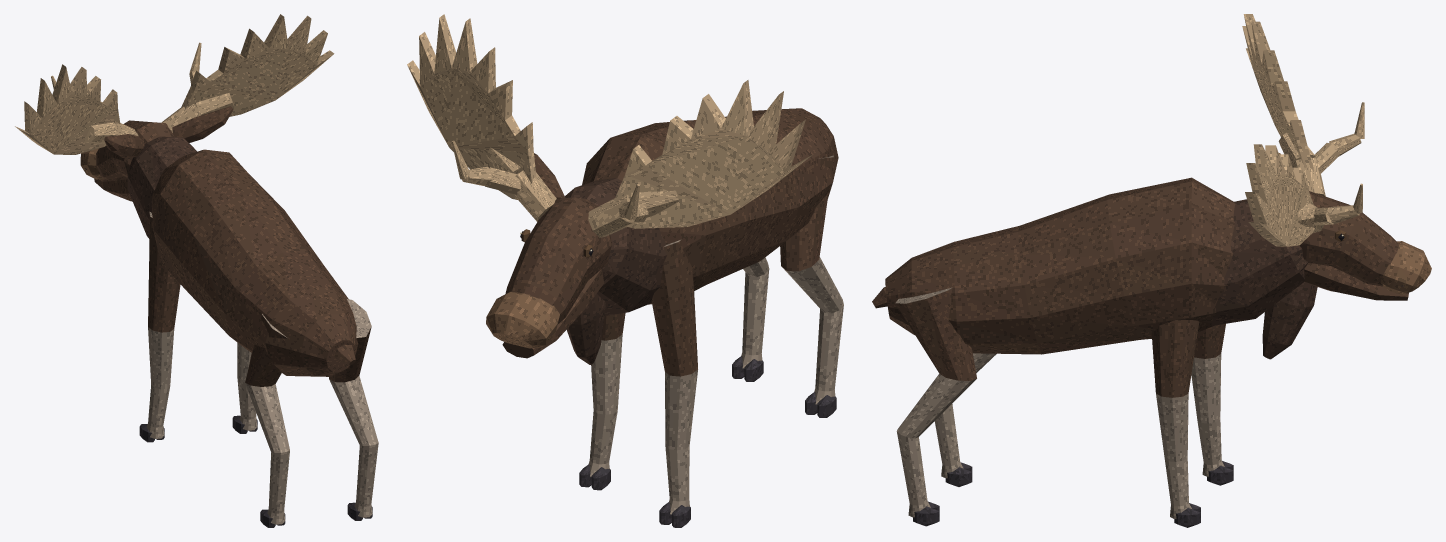
Rendered from mon_moose.glb.
The picture shows the model from 3 angles, left to right: view 1: azimuth 30°, elevation 25°; view 2: azimuth 150°, elevation 25°; view 3: azimuth 270°, elevation 25°; orthographic projection. The views are drawn at different scales.
Parts seen in each view (by area): view 1: closed_body; view 2: closed_body; view 3: closed_body.
Boxes of the visible parts, x1,y1,x2,y2 form: closed_body: [15, 14, 378, 527]; closed_body: [407, 14, 843, 527]; closed_body: [872, 14, 1431, 527].
Size of the model in its own units: 2.13 by 2.46 by 2.95.
1 material, 1 textured.
